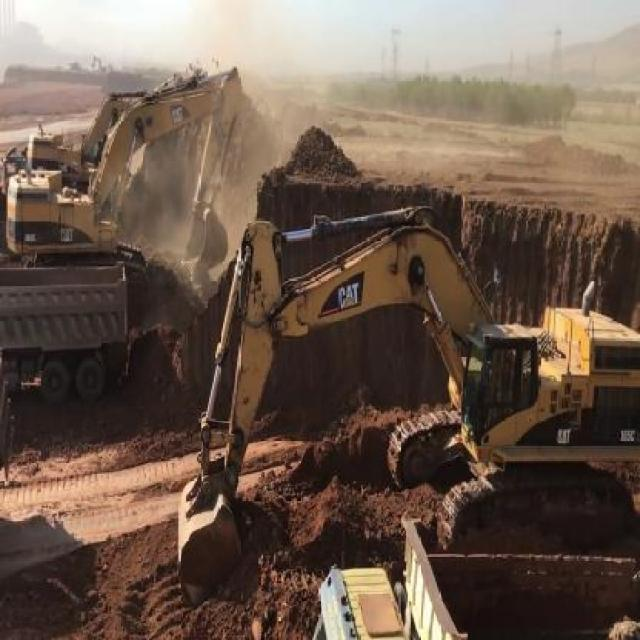Dump Truck: (307, 519, 640, 636), (2, 266, 128, 399)
Excavator: (176, 202, 639, 604), (2, 64, 238, 276)
